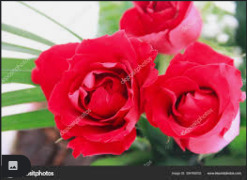RedRose: (26, 26, 150, 149), (154, 45, 244, 153), (118, 2, 203, 44)
